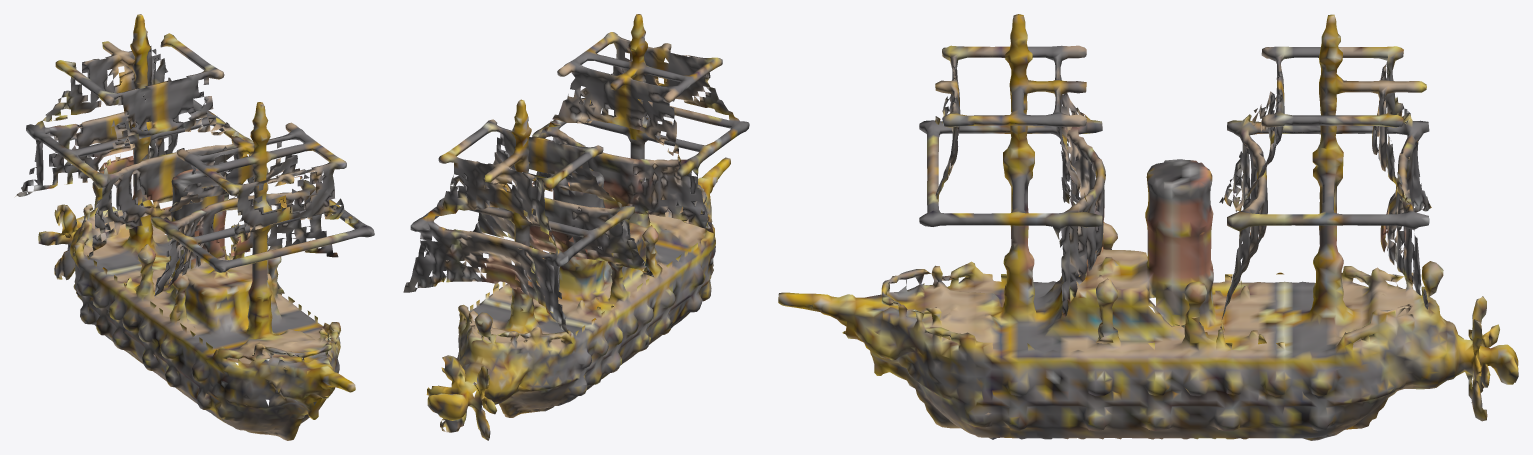
The model's file is mon3d.glb.
The picture shows the model from 3 angles, left to right: view 1: azimuth 30°, elevation 25°; view 2: azimuth 150°, elevation 25°; view 3: azimuth 270°, elevation 25°; orthographic projection. The views are drawn at different scales.
Size of the model in its own units: 0.7549 by 1.2 by 1.95.
